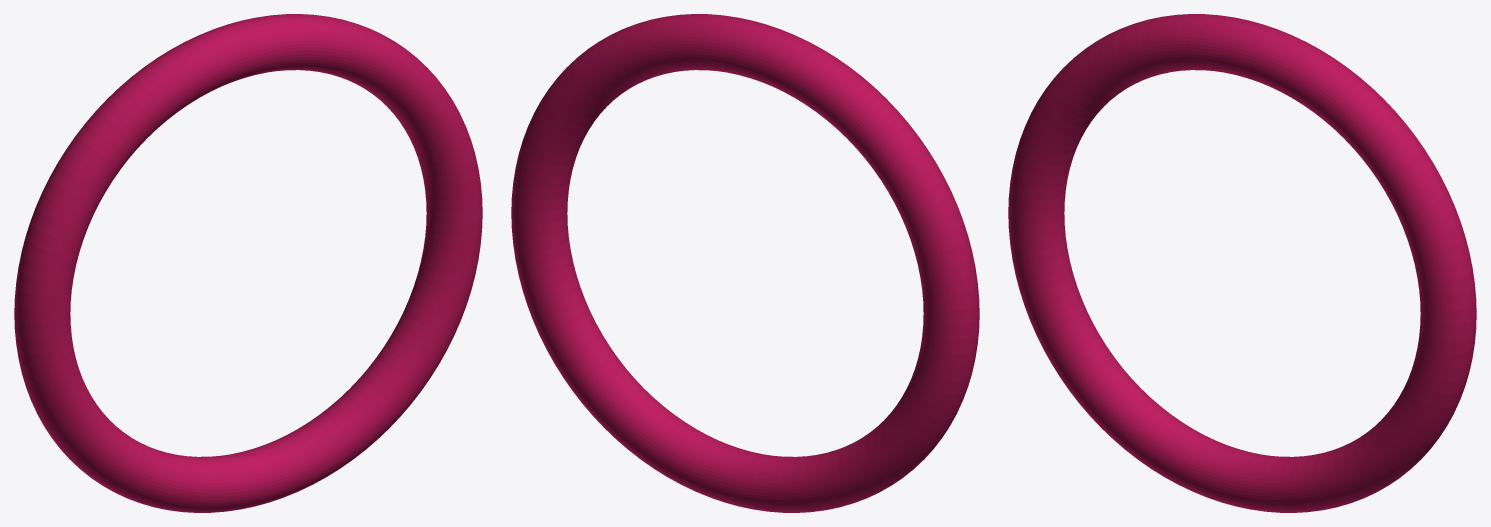
The picture shows the model from 3 angles, left to right: view 1: azimuth 30°, elevation 25°; view 2: azimuth 150°, elevation 25°; view 3: azimuth 330°, elevation 25°; orthographic projection.
Parts seen in each view (by area): view 1: world; view 2: world; view 3: world.
Boxes of the visible parts, box(x1,y1,x2,y2) form: world: box(14, 14, 482, 512); world: box(511, 14, 979, 512); world: box(1008, 14, 1476, 512).
Size of the model in its own units: 29.07 by 29.07 by 3.06.
